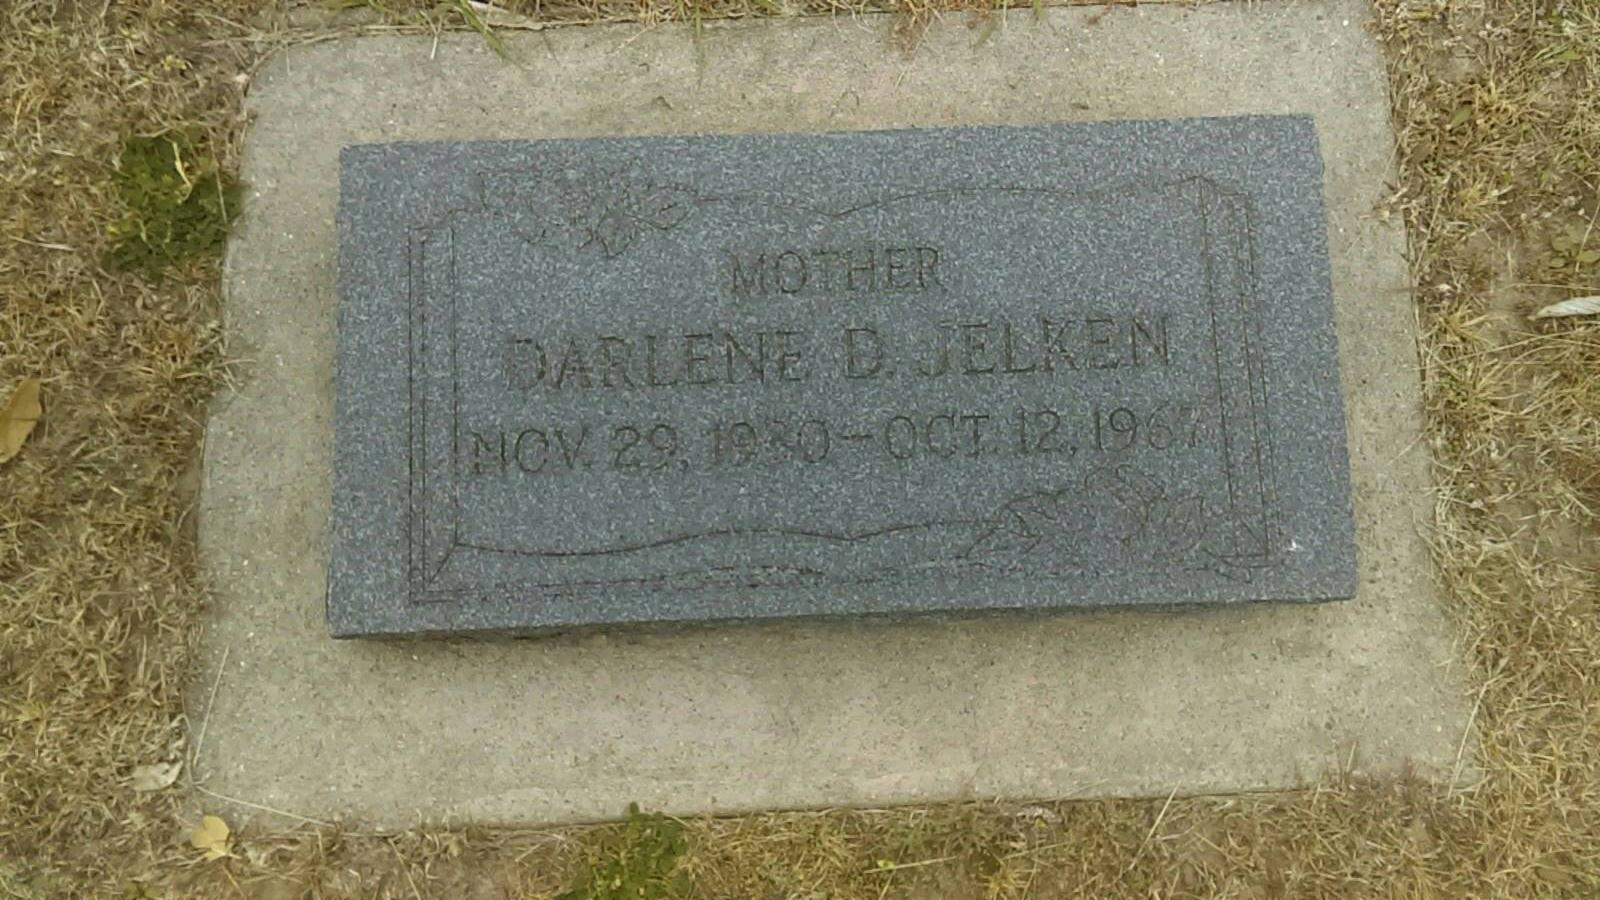flat: (238, 44, 1462, 796)
